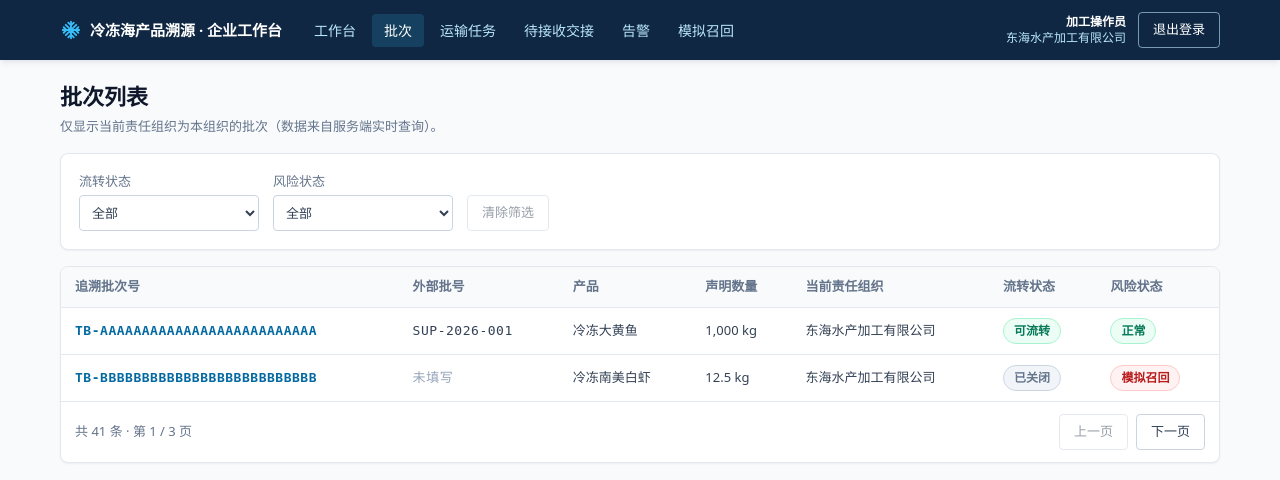
Scenario: BatchListView › paginates with the real page metadata
Expected: the button with test id "page-prev" is disabled, [1059, 414, 1128, 450]
Click the button with test id "page-next" at (1170, 432), box [1136, 414, 1205, 450]
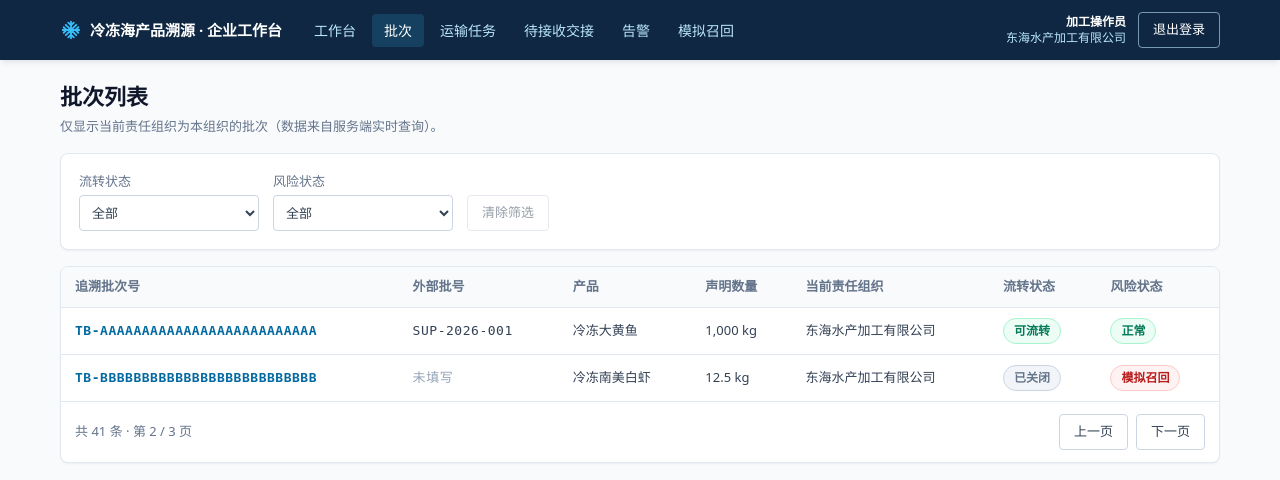
Now the text with test id "batch-page-summary" shows "第 2 / 3 页", box [75, 422, 192, 440]
